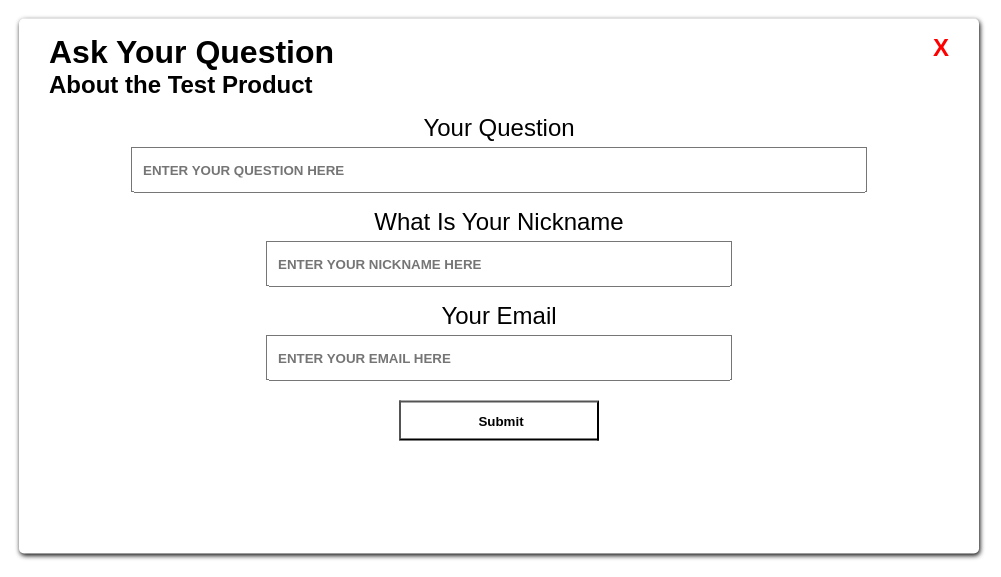
Add question › Should post question with valid information and display Question added
In the field with placeholder "ENTER YOUR QUESTION HERE": (499, 170) [131, 146, 867, 192], type "Test question"
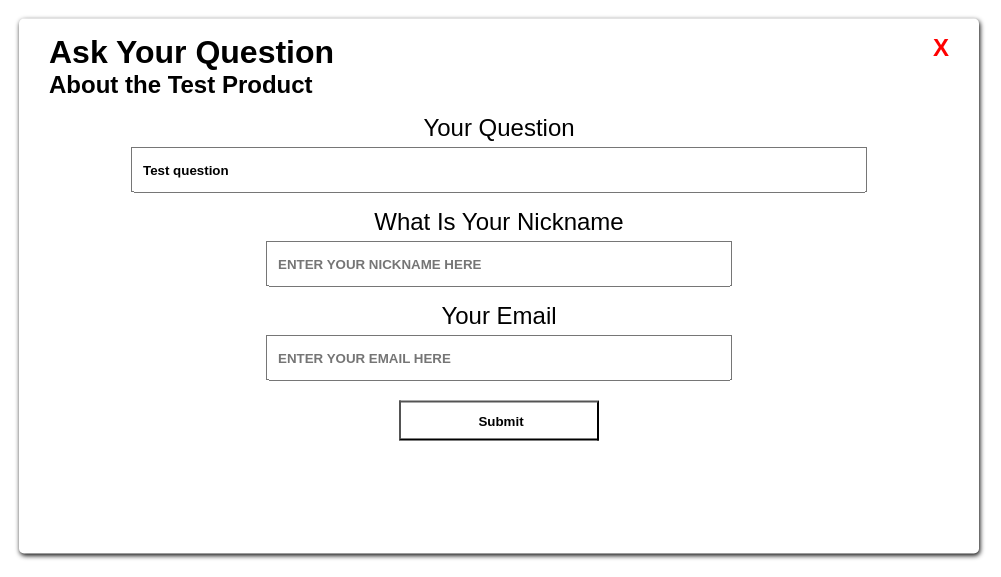
In the field with placeholder "ENTER YOUR NICKNAME HERE": (499, 264) [266, 240, 732, 286], type "TestNickname"
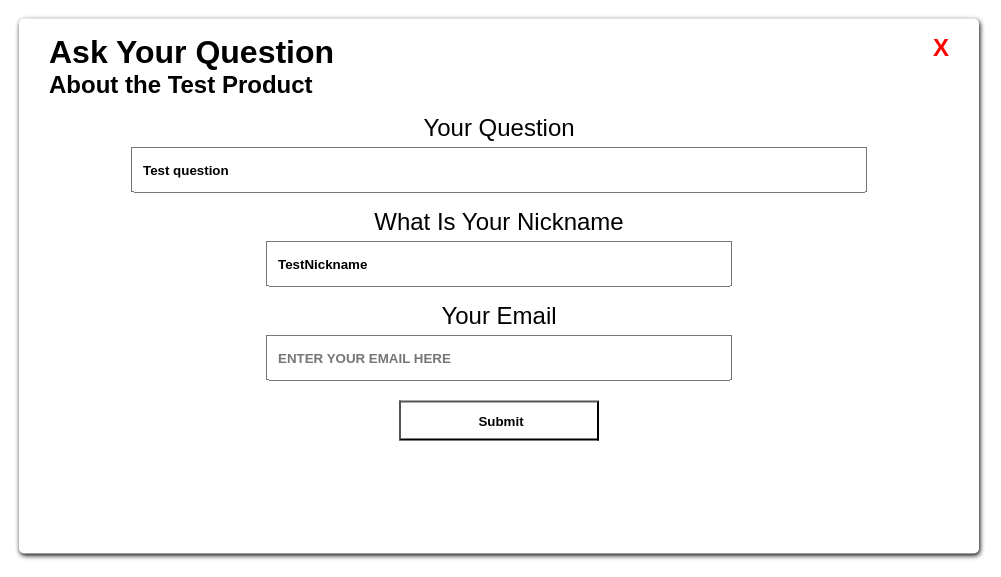
In the field with placeholder "ENTER YOUR EMAIL HERE": (499, 358) [266, 334, 732, 380], type "test@email.com"
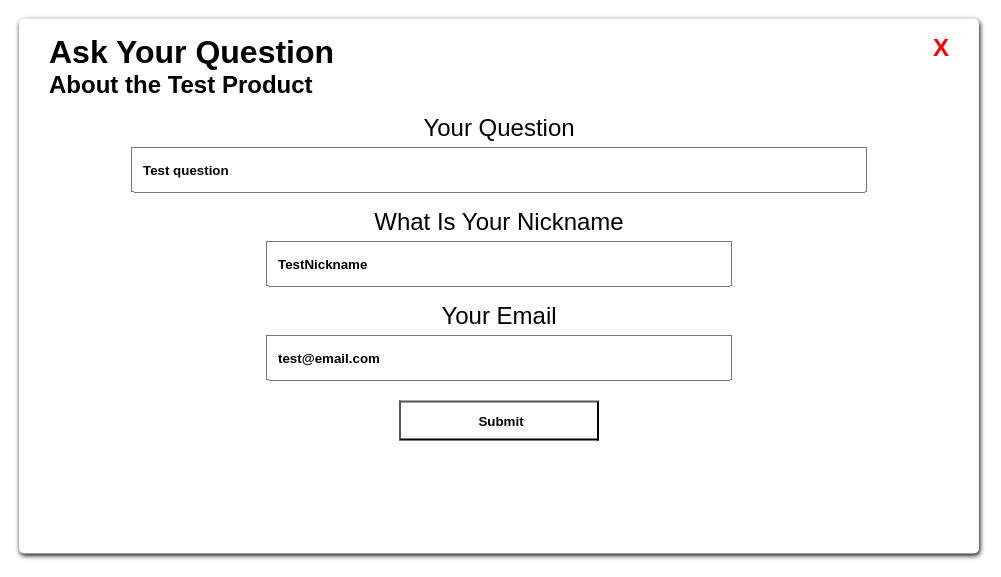
Click the button with test id "qa-addQuestion-submit": (499, 420) [399, 400, 599, 440]
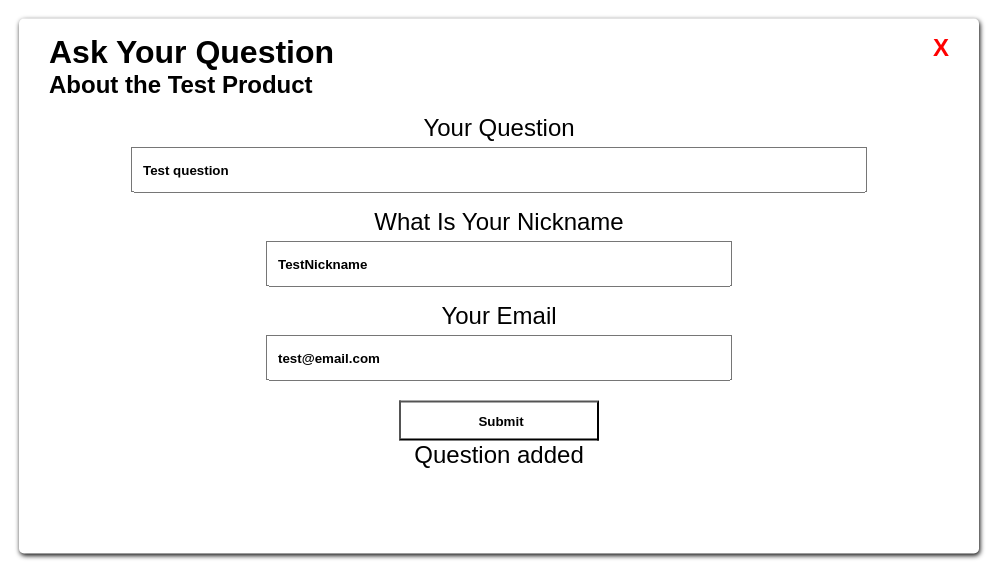
Expected: the text "Question added" is shown, [414, 440, 584, 468]
